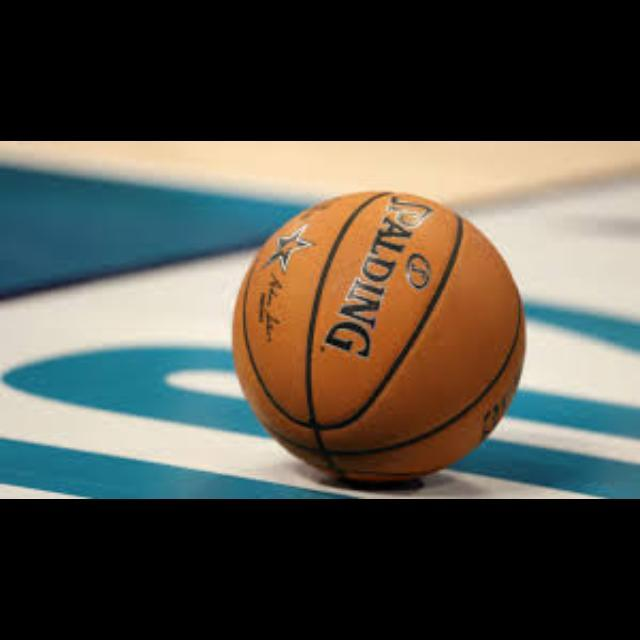basketball: (235, 193, 525, 482)
